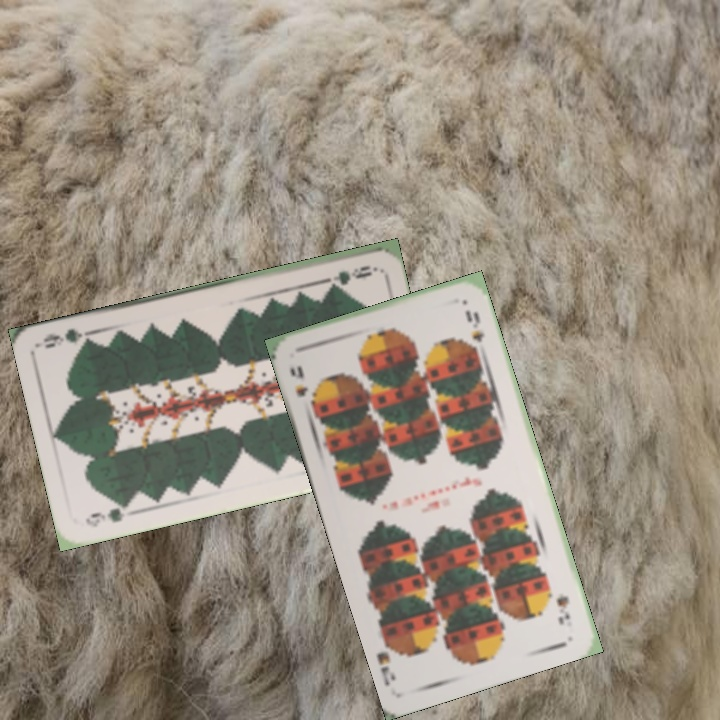G9: (81, 498, 135, 530), (319, 261, 378, 286)
S9: (285, 362, 320, 412), (552, 591, 573, 627)
